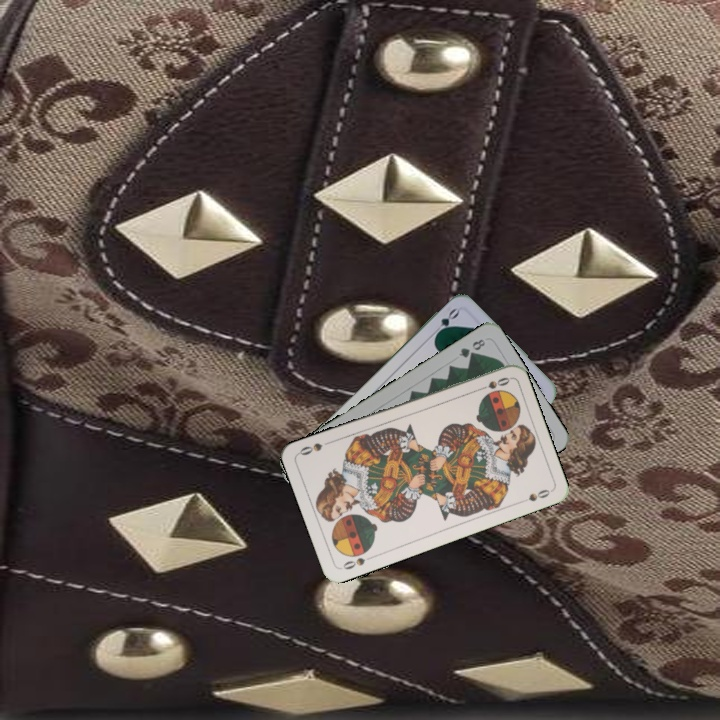G8: (455, 335, 488, 361)
GO: (428, 304, 462, 340)
SO: (473, 373, 512, 394), (337, 552, 376, 572)
